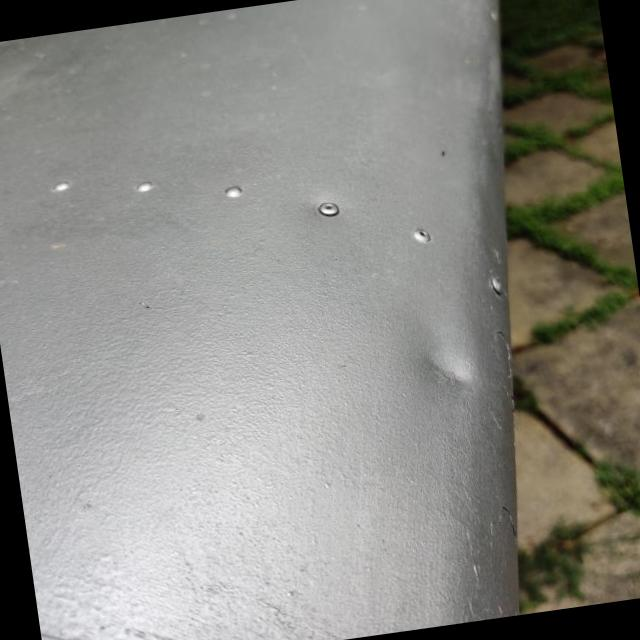Dent: (393, 283, 511, 411)
